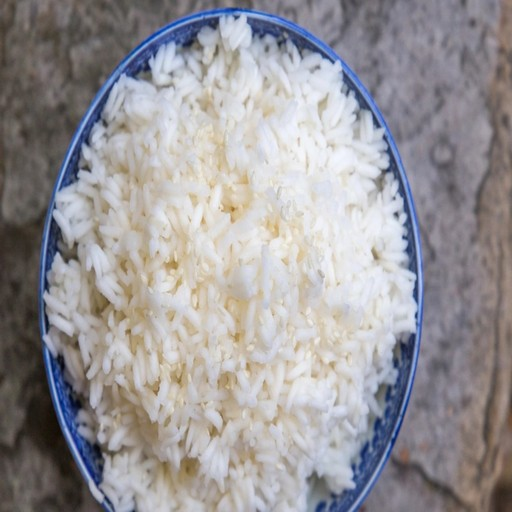rice: (95, 150, 316, 452)
